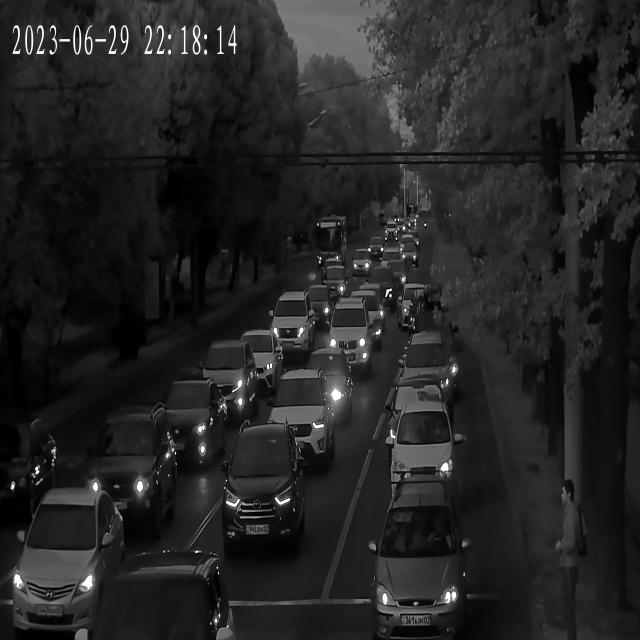Bus: (315, 216, 352, 263)
Car: (6, 487, 128, 640), (373, 486, 468, 640), (92, 545, 232, 640), (74, 412, 176, 532), (218, 424, 306, 552), (386, 393, 465, 506), (176, 339, 259, 426), (258, 373, 332, 470), (145, 382, 225, 470), (0, 411, 56, 521), (279, 350, 354, 425), (317, 303, 378, 373), (396, 334, 454, 401), (262, 295, 318, 358), (225, 332, 282, 393), (169, 380, 230, 432), (337, 292, 387, 350), (395, 369, 451, 412), (396, 282, 442, 332), (298, 288, 336, 324), (360, 277, 398, 313), (322, 268, 354, 297), (381, 260, 406, 284), (349, 253, 372, 277), (382, 242, 403, 261), (400, 245, 419, 265), (365, 241, 383, 258)
